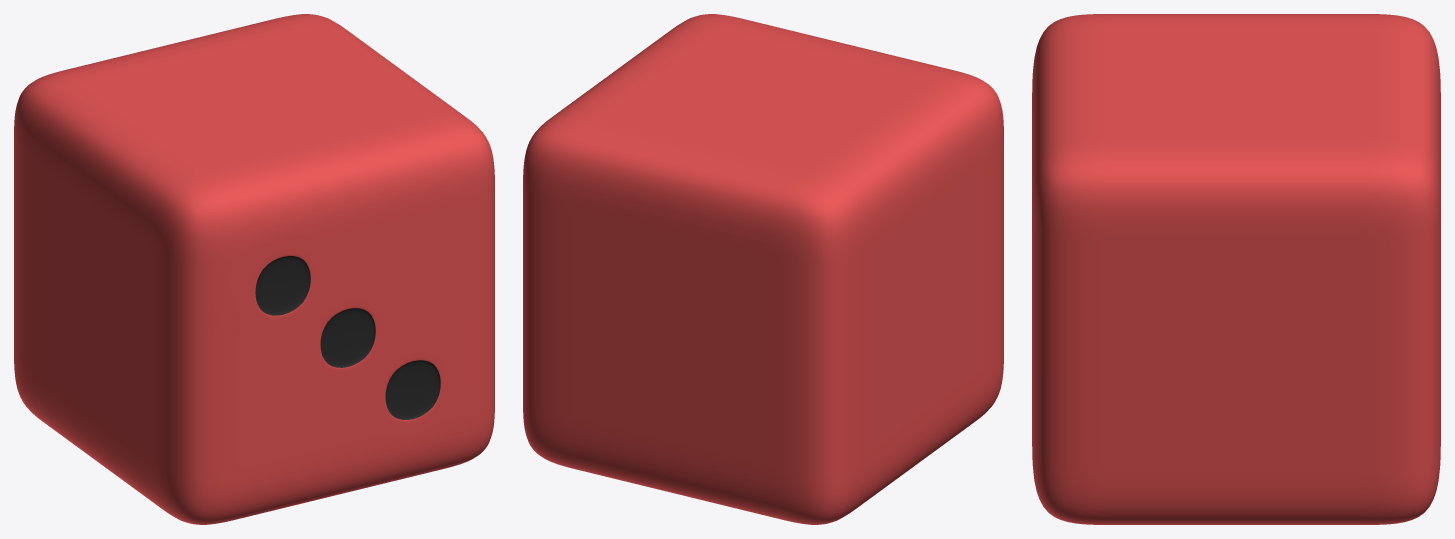
The model's file is dice_3.fbx.
3 views of the same model, side by side, from view 1: azimuth 30°, elevation 25°; view 2: azimuth 150°, elevation 25°; view 3: azimuth 270°, elevation 25° (orthographic). The views are drawn at different scales.
Visible parts, largest first — view 1: pCube1; view 2: pCube1; view 3: pCube1.
Boxes of the visible parts, x1,y1,x2,y2 form: pCube1: (14,14,494,524); pCube1: (523,14,1003,524); pCube1: (1032,14,1440,524).
Size of the model in its own units: 100 by 100 by 100.
